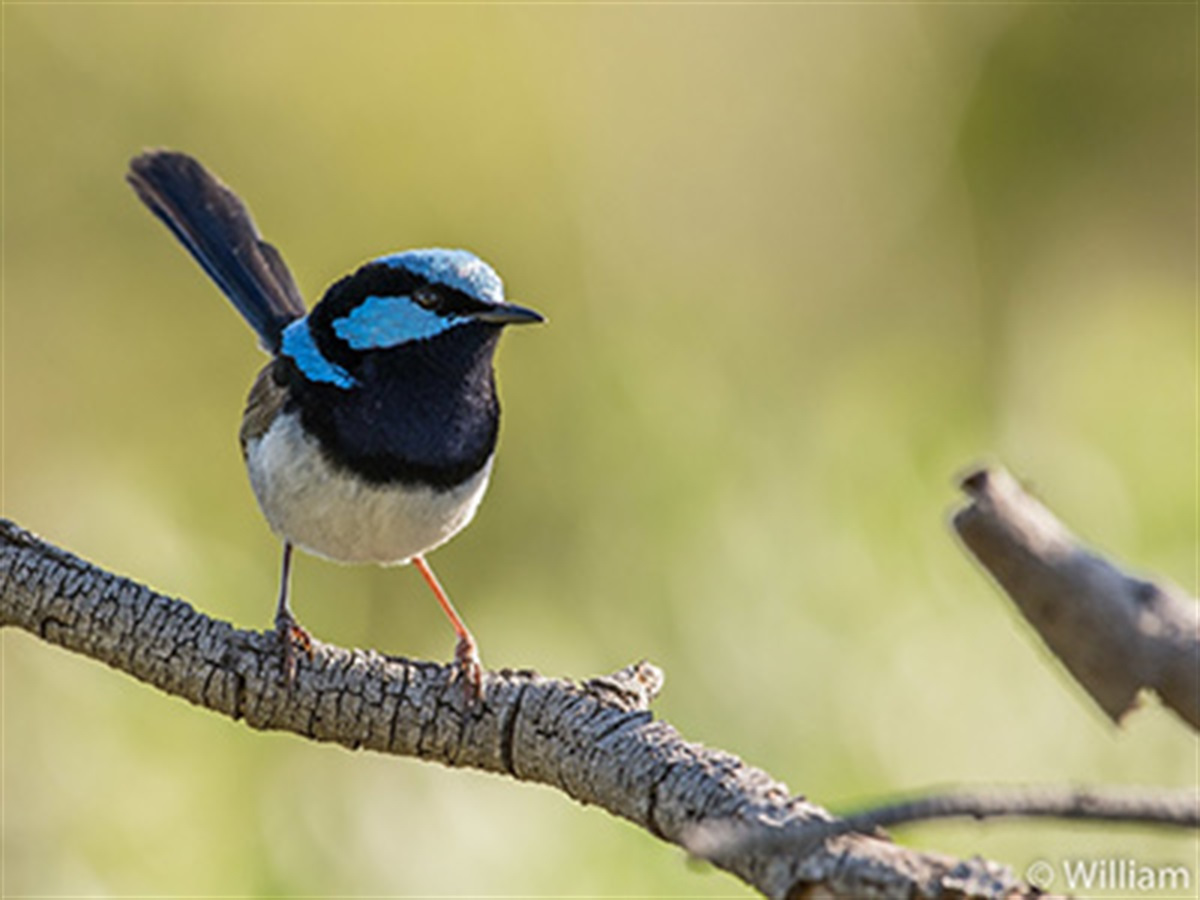bird: (122, 146, 574, 708)
